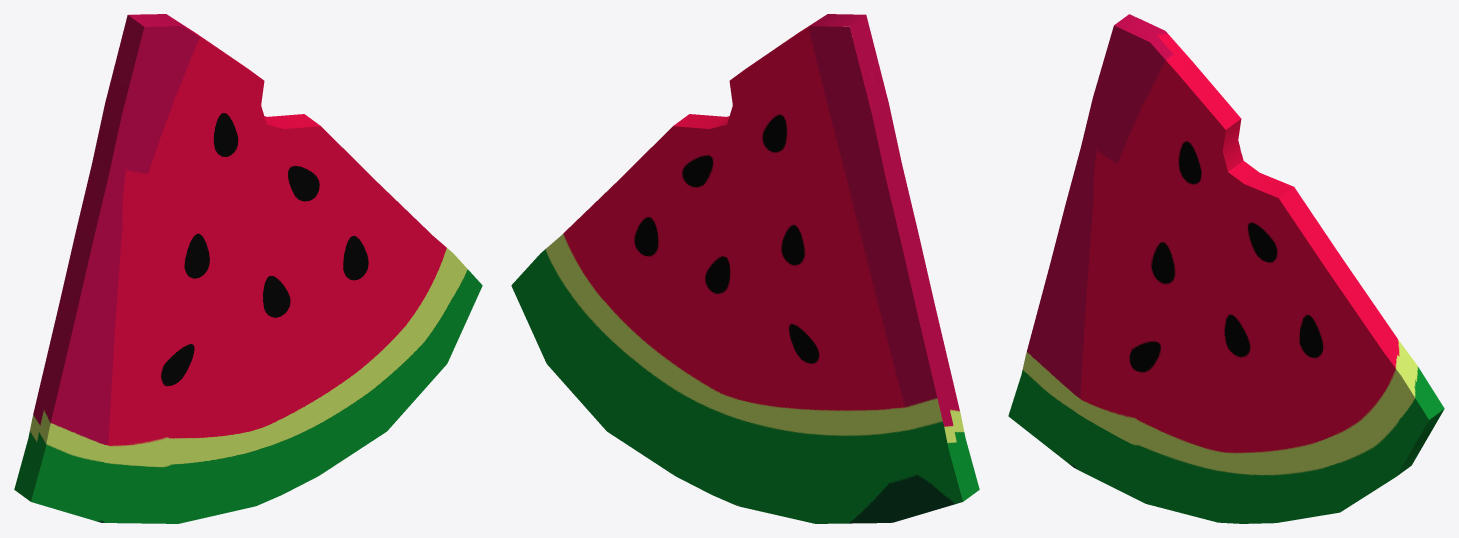
Rendered from watermelon.fbx.
The picture shows the model from 3 angles, left to right: view 1: azimuth 30°, elevation 25°; view 2: azimuth 150°, elevation 25°; view 3: azimuth 330°, elevation 25°; orthographic projection. The views are drawn at different scales.
Visible parts, largest first — view 1: polySurface1; view 2: polySurface1; view 3: polySurface1.
Boxes of the visible parts, box(x1,y1,x2,y2) form: polySurface1: box(14, 14, 482, 523); polySurface1: box(511, 14, 979, 523); polySurface1: box(1008, 14, 1444, 523).
Bounding box in the file's own units: 17.7 × 18.96 × 1.13.
1 material, 1 textured.
